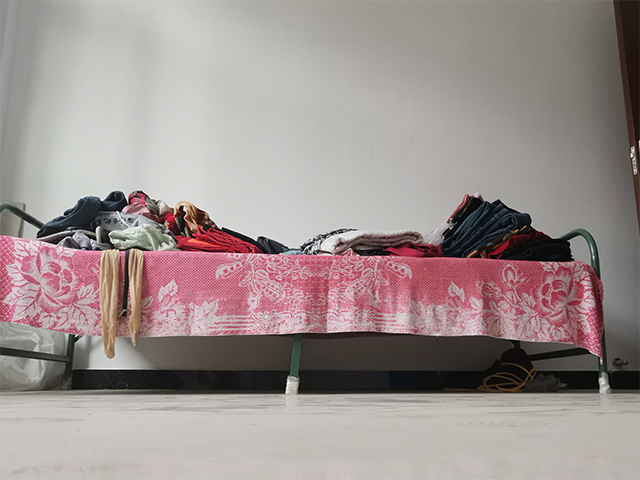bed: (1, 188, 615, 397)
wire: (440, 363, 541, 394)
